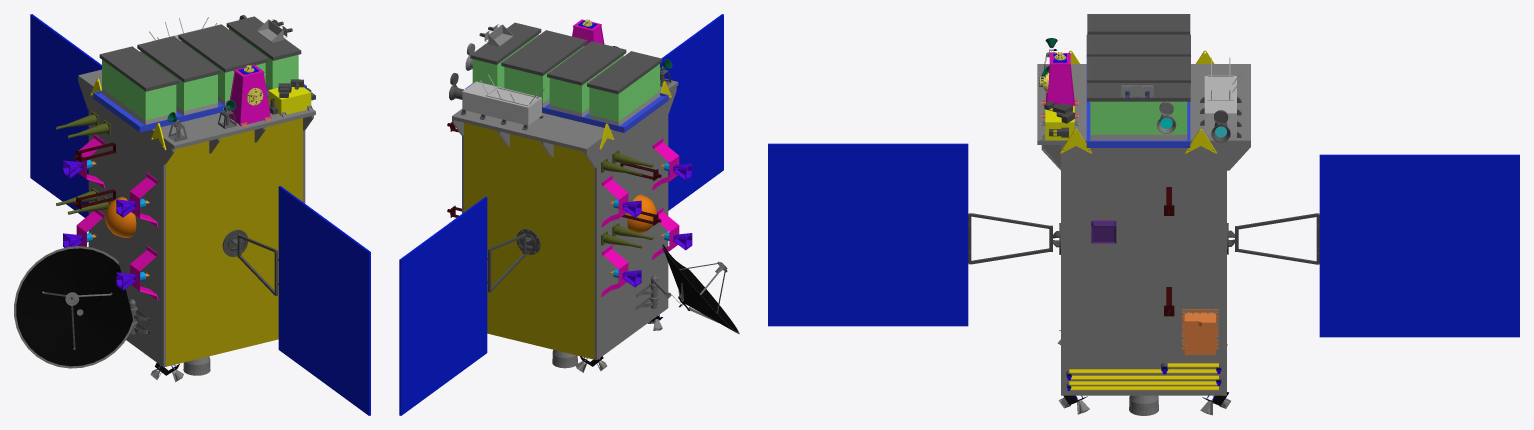
File: Aditya L1.fbx
3 renders of one model, left to right at view 1: azimuth 30°, elevation 25°; view 2: azimuth 150°, elevation 25°; view 3: azimuth 270°, elevation 25°, orthographic. The views are drawn at different scales.
Visible parts, largest first — view 1: Aditya L1; view 2: Aditya L1; view 3: Aditya L1.
Boxes of the visible parts, <box> form: Aditya L1: <box>14,14,370,415</box>; Aditya L1: <box>399,14,739,415</box>; Aditya L1: <box>768,14,1519,415</box>.
Bounding box in the file's own units: 466 × 508 × 948.
